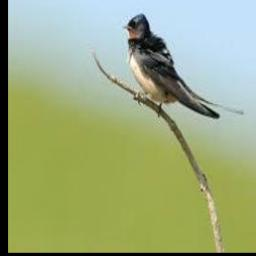Swallow: (124, 14, 244, 120)
